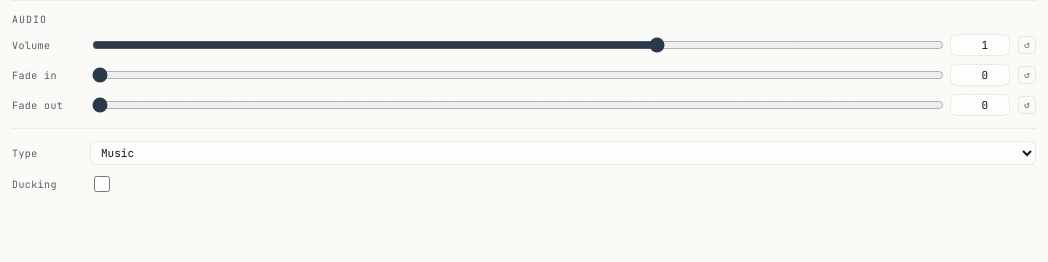
Test: <StaticPropsPanel /> — audio fade / type / ducking (#87) › ducking checkbox seeds the full schema shape; the ratio row is hidden until enabled
Expected: the slider labelled "ratio" is not shown
Click the checkbox labelled "Ducking". click: (102, 184)
box: [94,176,110,192]
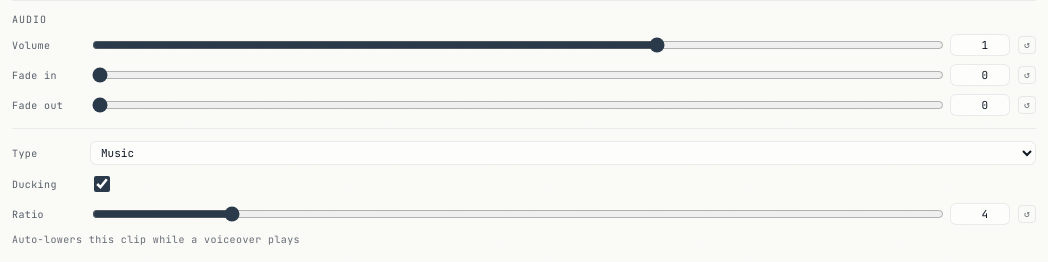
Expected: the slider named "ratio" is shown, [92,206,944,222]
